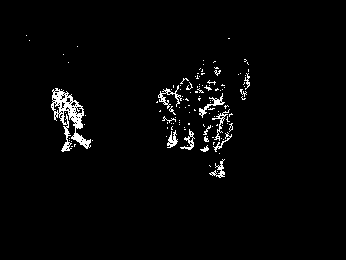person: (199, 87, 233, 179), (47, 87, 93, 154), (153, 80, 181, 149), (172, 78, 197, 153)
